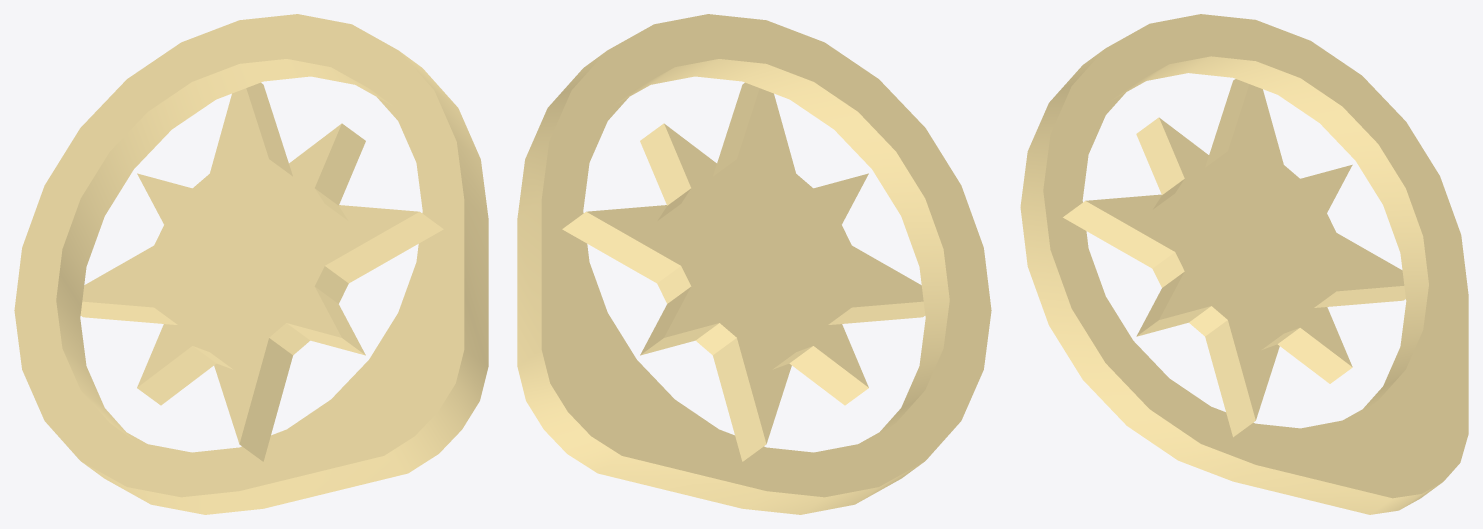
File: ps2_save-icons_cabelasoutdooradventures2005.glb
3 views of the same model, side by side, from view 1: azimuth 30°, elevation 25°; view 2: azimuth 150°, elevation 25°; view 3: azimuth 330°, elevation 25° (orthographic). The views are drawn at different scales.
Parts seen in each view (by area): view 1: static.ico; view 2: static.ico; view 3: static.ico.
Boxes of the visible parts, x1,y1,x2,y2 form: static.ico: [14, 14, 488, 514]; static.ico: [517, 14, 991, 514]; static.ico: [1020, 14, 1468, 514].
Bounding box in the file's own units: 5 × 5 × 0.4639.
1 material, 1 textured.
